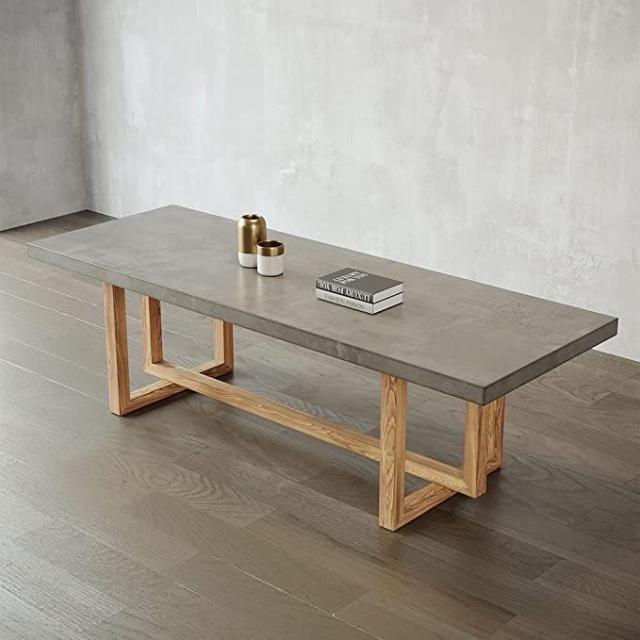table: (23, 176, 632, 546)
